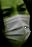with_mask: (1, 2, 32, 47)
